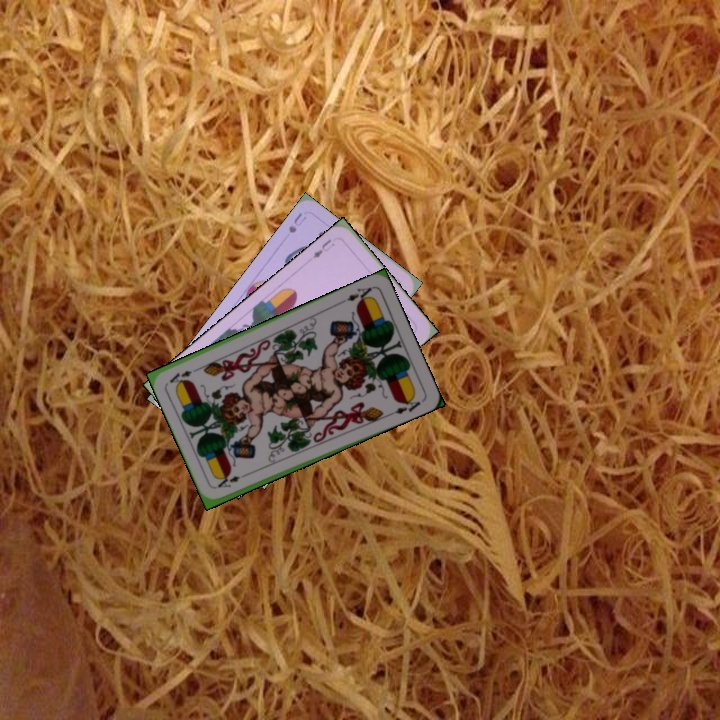EA: (337, 283, 375, 306), (214, 469, 251, 490)
EU: (308, 235, 337, 261)
SU: (284, 208, 309, 236)
